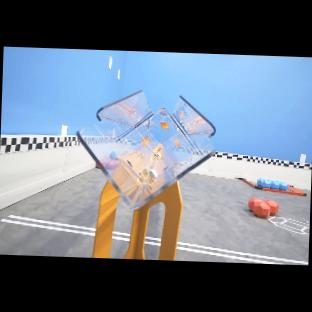Autolimit: (177, 242, 308, 265), (0, 215, 96, 236), (112, 232, 130, 241), (145, 237, 161, 246)
Goal: (77, 90, 215, 209)
Parking-R: (238, 179, 306, 196)
V5_BLUE: (271, 181, 282, 189), (261, 180, 271, 188), (109, 151, 117, 159), (257, 179, 266, 186), (279, 183, 288, 190), (267, 180, 274, 182)
V5_RED: (253, 201, 271, 218), (264, 200, 279, 215), (248, 197, 262, 211), (106, 160, 117, 169)
pieces: (248, 198, 279, 218), (257, 179, 289, 191), (99, 157, 111, 167), (107, 160, 117, 169), (109, 151, 117, 159)
